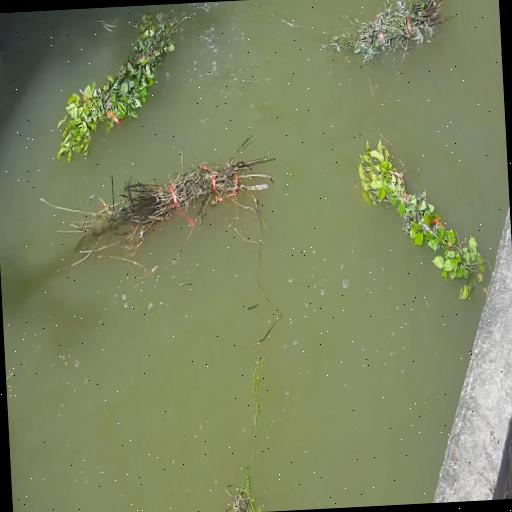twig: (50, 137, 275, 265), (57, 13, 184, 161), (358, 140, 484, 282), (326, 0, 446, 65), (245, 357, 263, 470), (226, 472, 262, 512)
